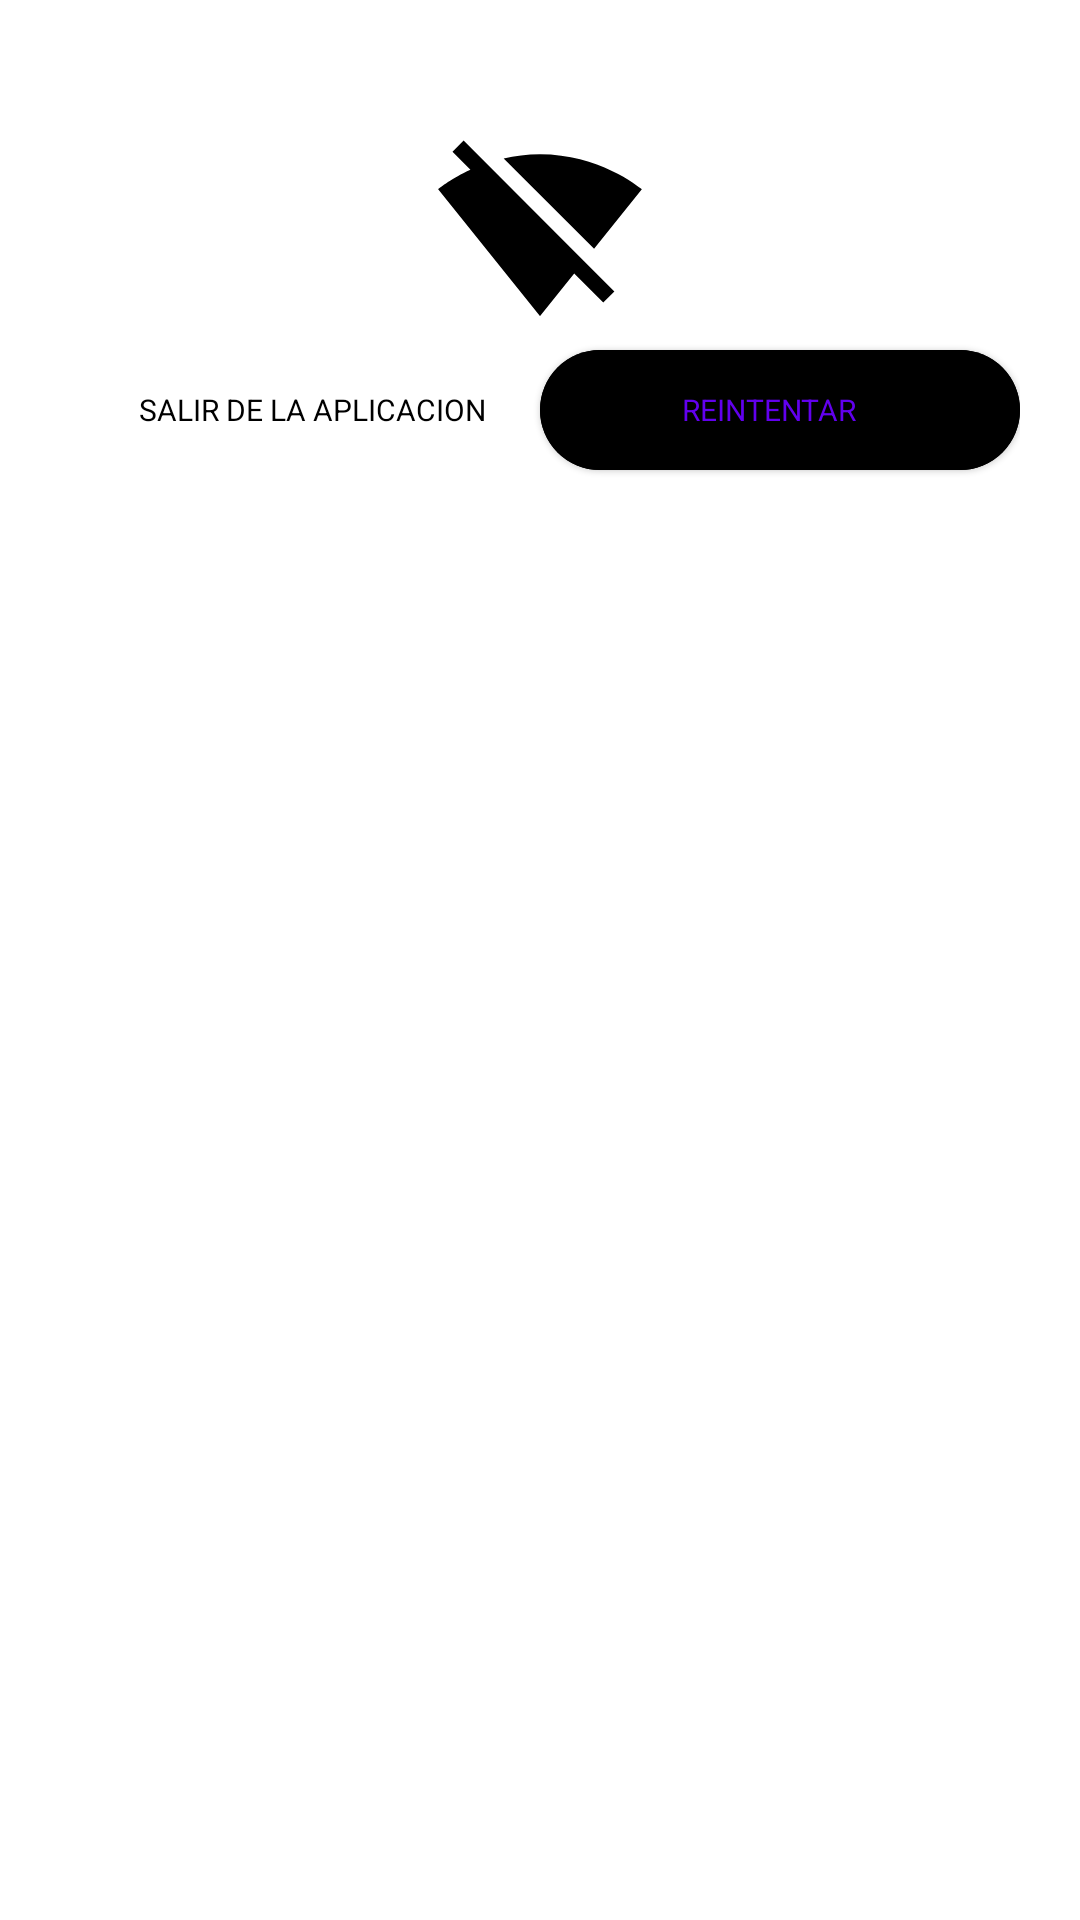

Locate icon controls on the screen. Image size 1080w x 1920h, boxes as rect(x1, y1, x2, y2).
signal wifi off: rect(438, 140, 642, 316)
